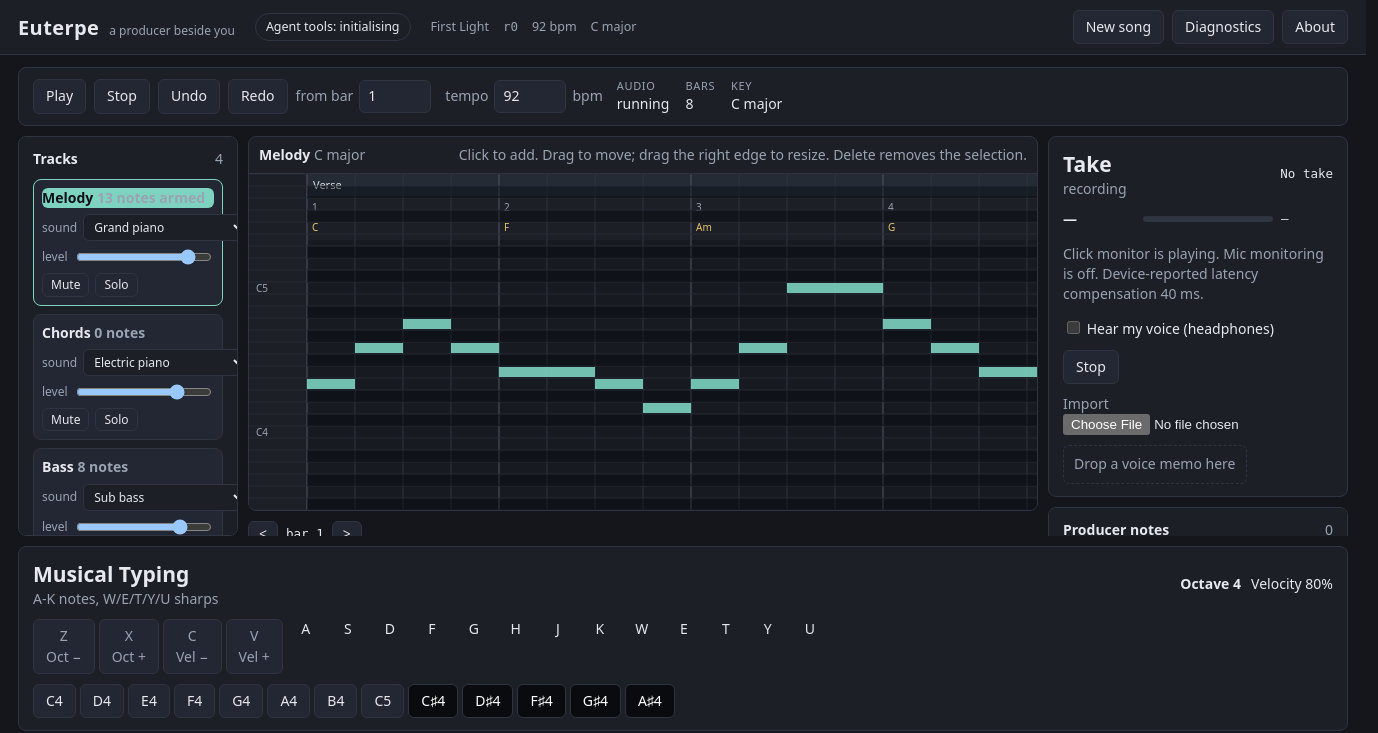
App › reports a refused human edit instead of throwing
(page scrolled)
Click the 1st button "Mute" at (66, 285), box [42,273,89,296]
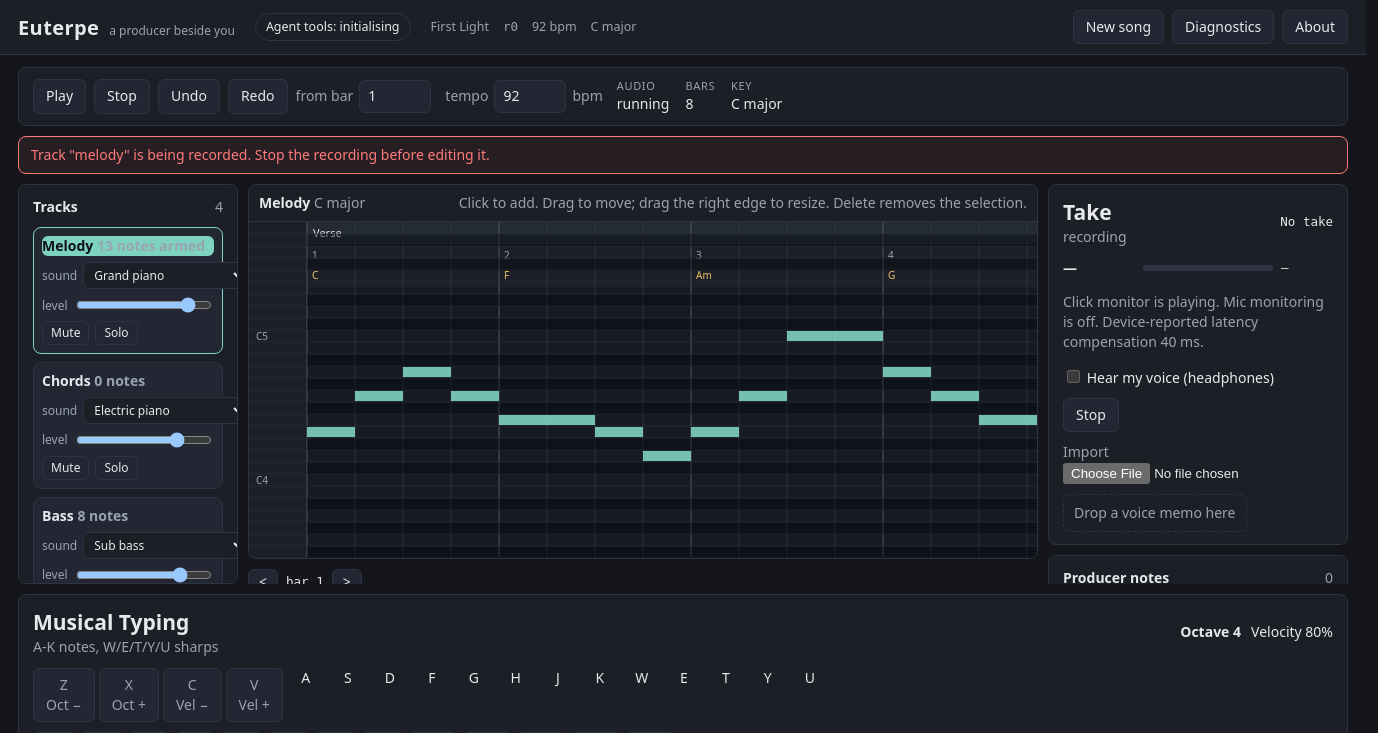
Now the message "Track \"melody\" is being recorded. Stop the recording before editing it." is shown, box [18,136,1348,174]
